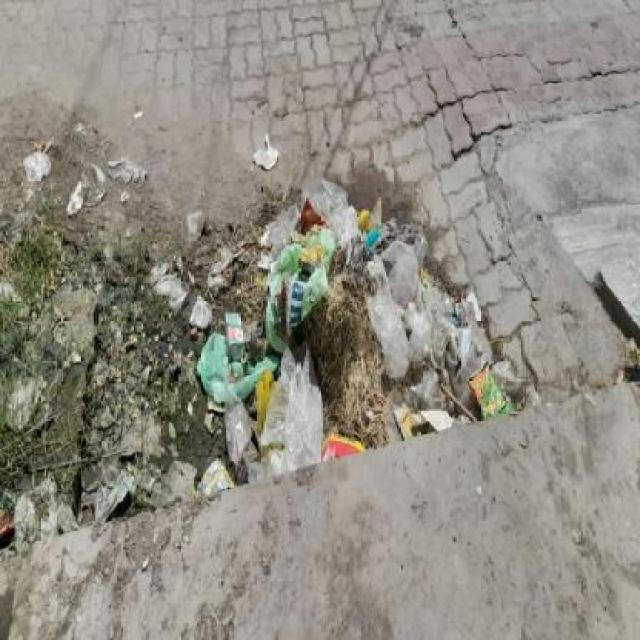garbage: (3, 129, 549, 503)
